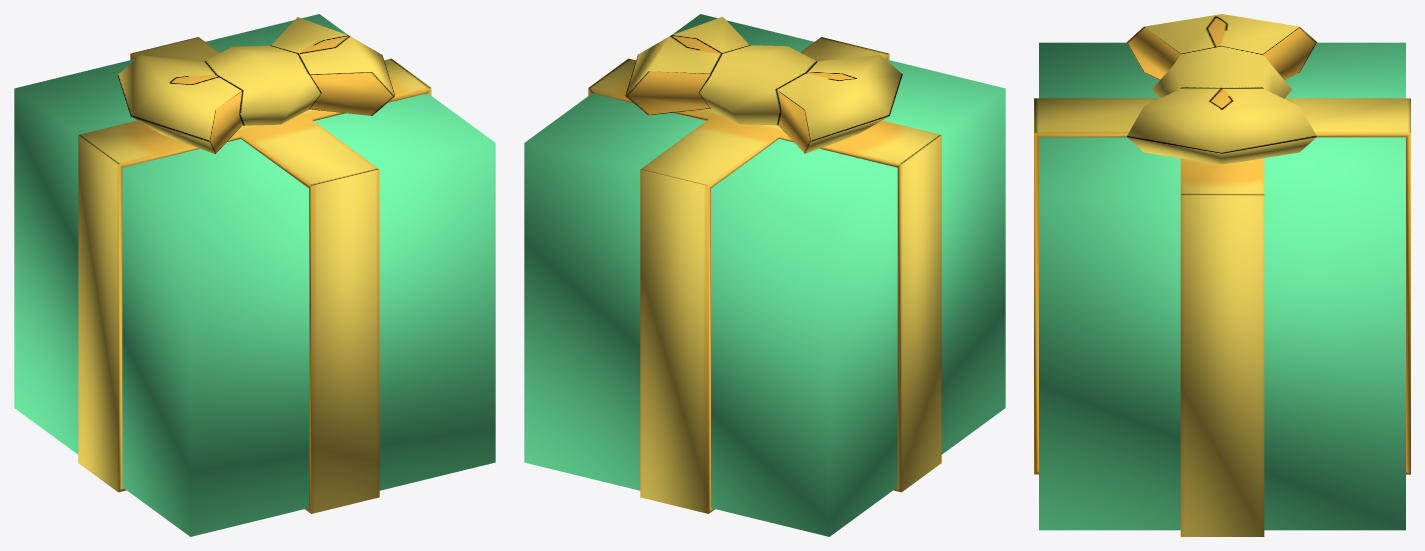
File: presente.fbx
3 renders of one model, left to right at view 1: azimuth 30°, elevation 25°; view 2: azimuth 150°, elevation 25°; view 3: azimuth 270°, elevation 25°, orthographic. The views are drawn at different scales.
Visible parts, largest first — view 1: Presente; view 2: Presente; view 3: Presente.
Boxes of the visible parts, box(x1,y1,x2,y2) form: Presente: box(14, 14, 495, 536); Presente: box(524, 14, 1005, 536); Presente: box(1034, 14, 1410, 536).
Size of the model in its own units: 64.27 by 75.27 by 64.27.
Materials: 1 (1 with a texture image).
